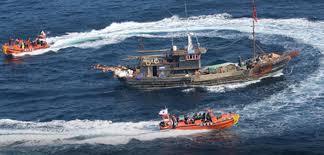Ship: (87, 34, 309, 105)
